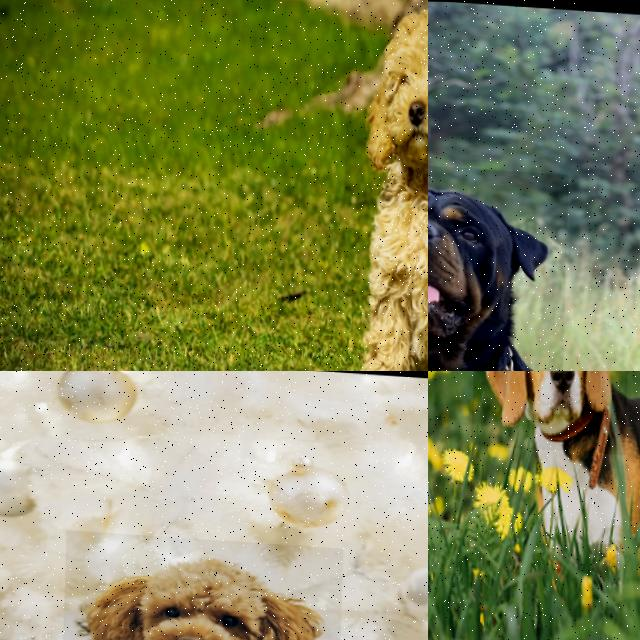beagle: (466, 371, 633, 455)
poodle: (55, 529, 345, 640), (338, 0, 428, 214)
rottweiler: (428, 155, 571, 371)
